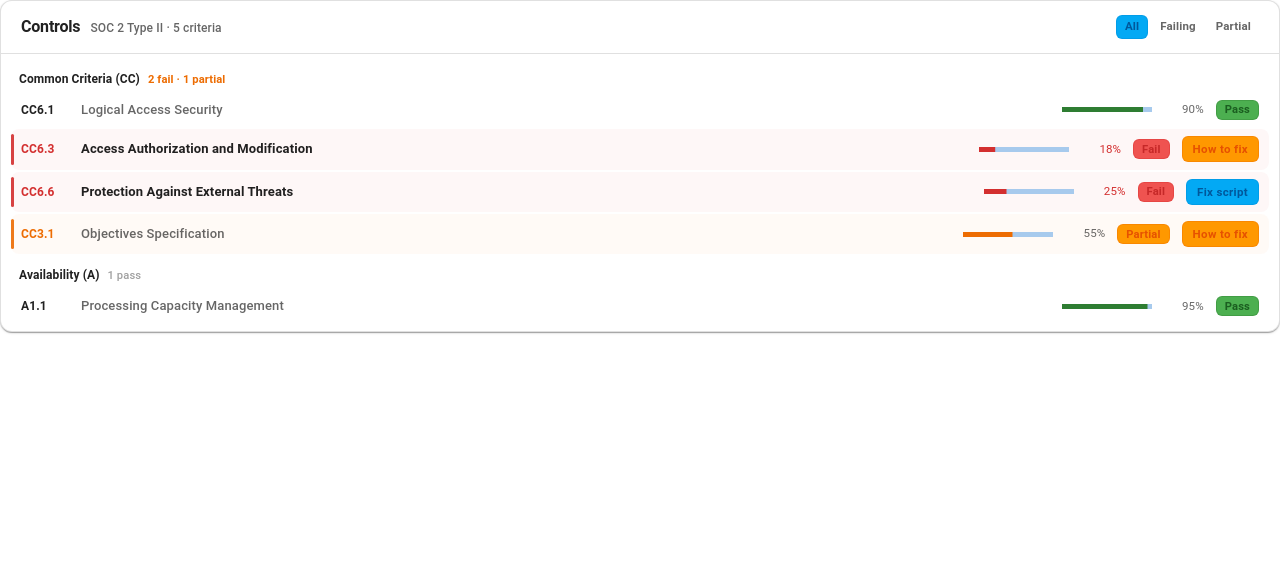
Test: ControlHeatmap › expanding a second row collapses the first
The width and height of the screenshot is (1280, 578).
Click the button "Fix script" at (1222, 192), box top-left (1186, 179), bottom-right (1259, 205)
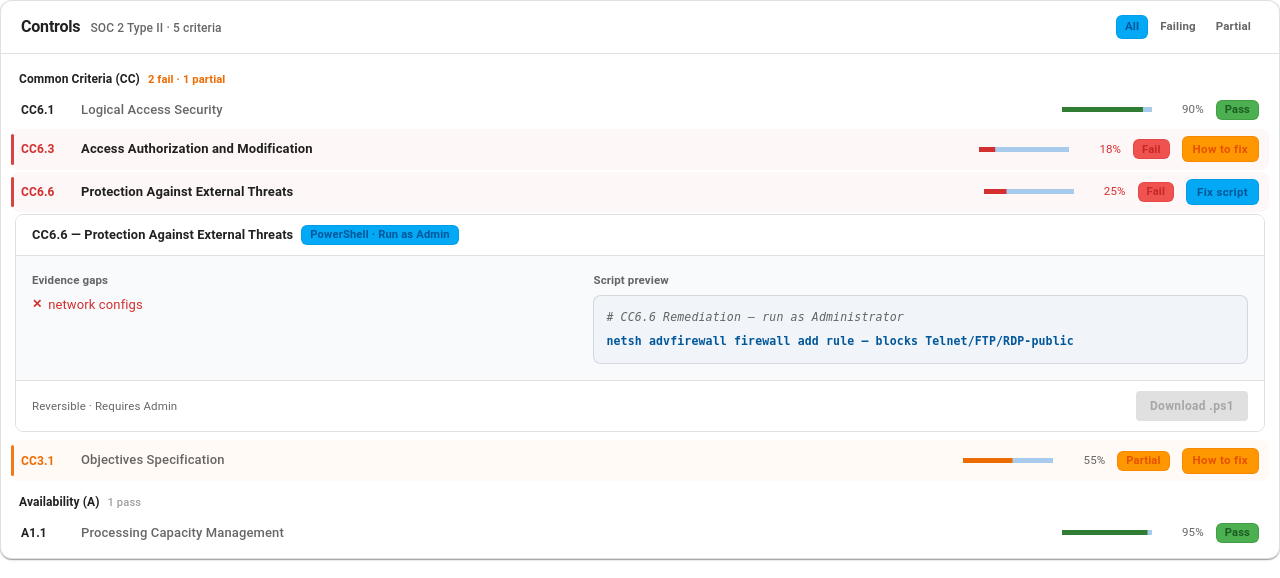
# now expand a different row
Click the button "How to fix" in the row of "18" at (1220, 149), box top-left (1182, 136), bottom-right (1259, 162)
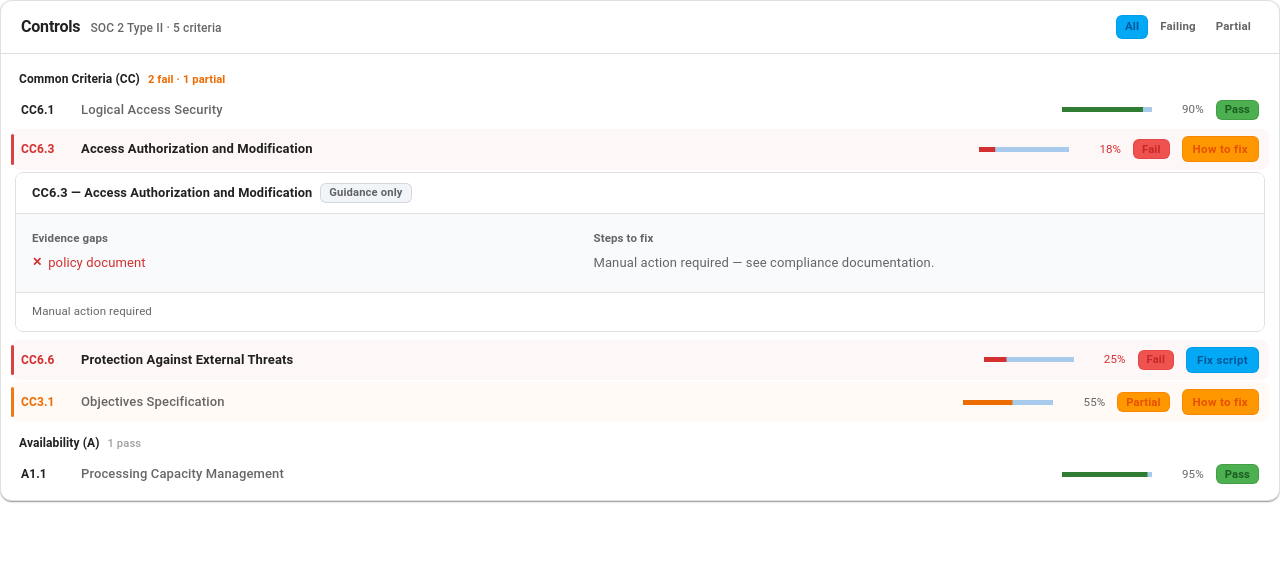
Expected: the text "Reversible" is gone
